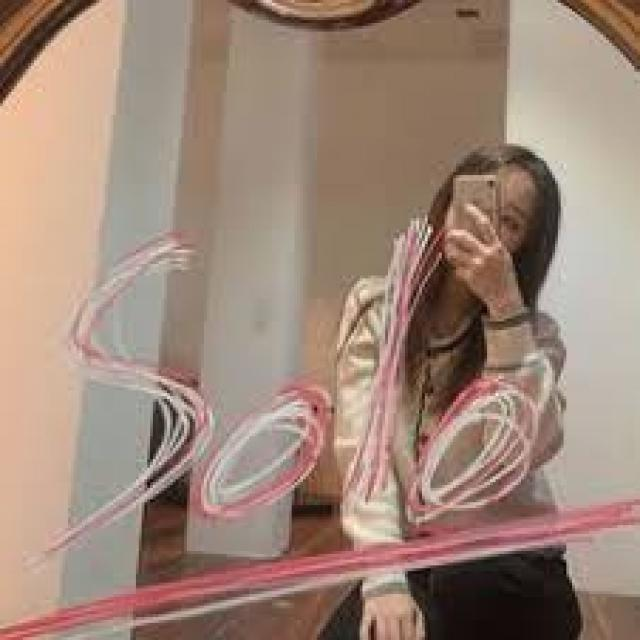Phone: (452, 174, 500, 242)
